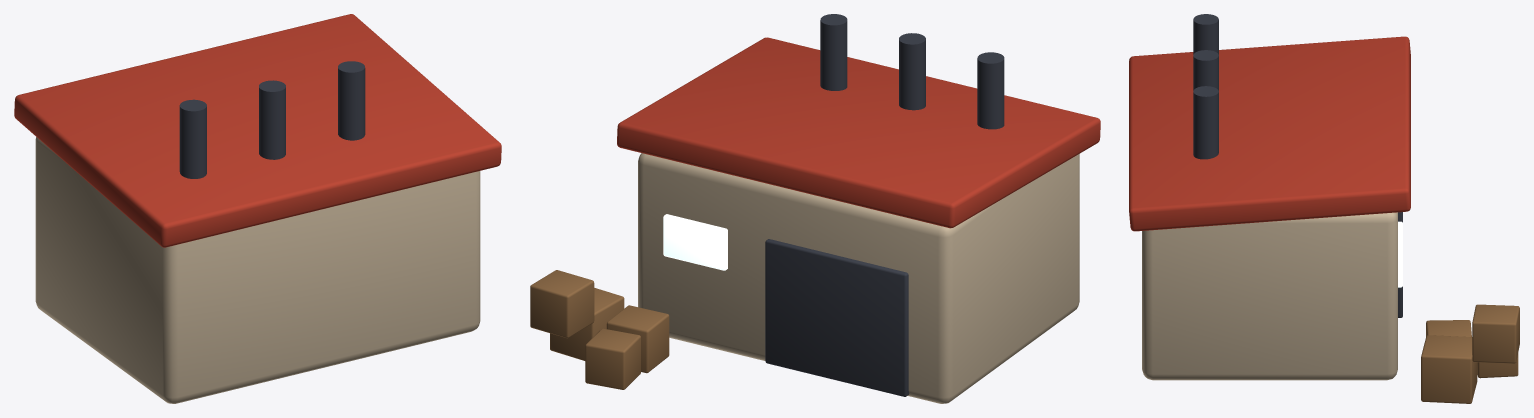
File: town_workshop.glb
The picture shows the model from 3 angles, left to right: view 1: azimuth 30°, elevation 25°; view 2: azimuth 150°, elevation 25°; view 3: azimuth 270°, elevation 25°; orthographic projection. The views are drawn at different scales.
Parts seen in each view (by area): view 1: Body, Roof, Vent2, Vent0, Vent1; view 2: Body, Roof, Shutter, Crate3, Crate2, Window, Crate0, Vent0, Vent2, Vent1, Crate1; view 3: Roof, Body, Crate1, Crate3, Vent2, Vent1, Vent0, Crate0, Crate2.
Boxes of the visible parts, x1,y1,x2,y2 form: Body: [35, 137, 480, 403]; Roof: [14, 14, 501, 247]; Vent2: [338, 61, 365, 140]; Vent0: [179, 99, 206, 178]; Vent1: [259, 80, 285, 159]; Body: [638, 153, 1079, 403]; Roof: [617, 37, 1100, 228]; Shutter: [765, 239, 909, 396]; Crate3: [530, 270, 594, 338]; Crate2: [585, 328, 640, 389]; Window: [663, 214, 727, 270]; Crate0: [606, 305, 669, 373]; Vent0: [977, 52, 1004, 129]; Vent2: [820, 14, 847, 90]; Vent1: [899, 33, 925, 110]; Crate1: [550, 288, 624, 360]; Roof: [1129, 36, 1410, 231]; Body: [1142, 212, 1397, 380]; Crate1: [1421, 335, 1477, 403]; Crate3: [1472, 304, 1519, 363]; Vent2: [1193, 86, 1218, 159]; Vent1: [1193, 50, 1218, 90]; Vent0: [1193, 14, 1218, 54]; Crate0: [1426, 320, 1471, 336]; Crate2: [1477, 353, 1518, 378].
Size of the model in its own units: 9.46 by 6.4 by 9.16.
